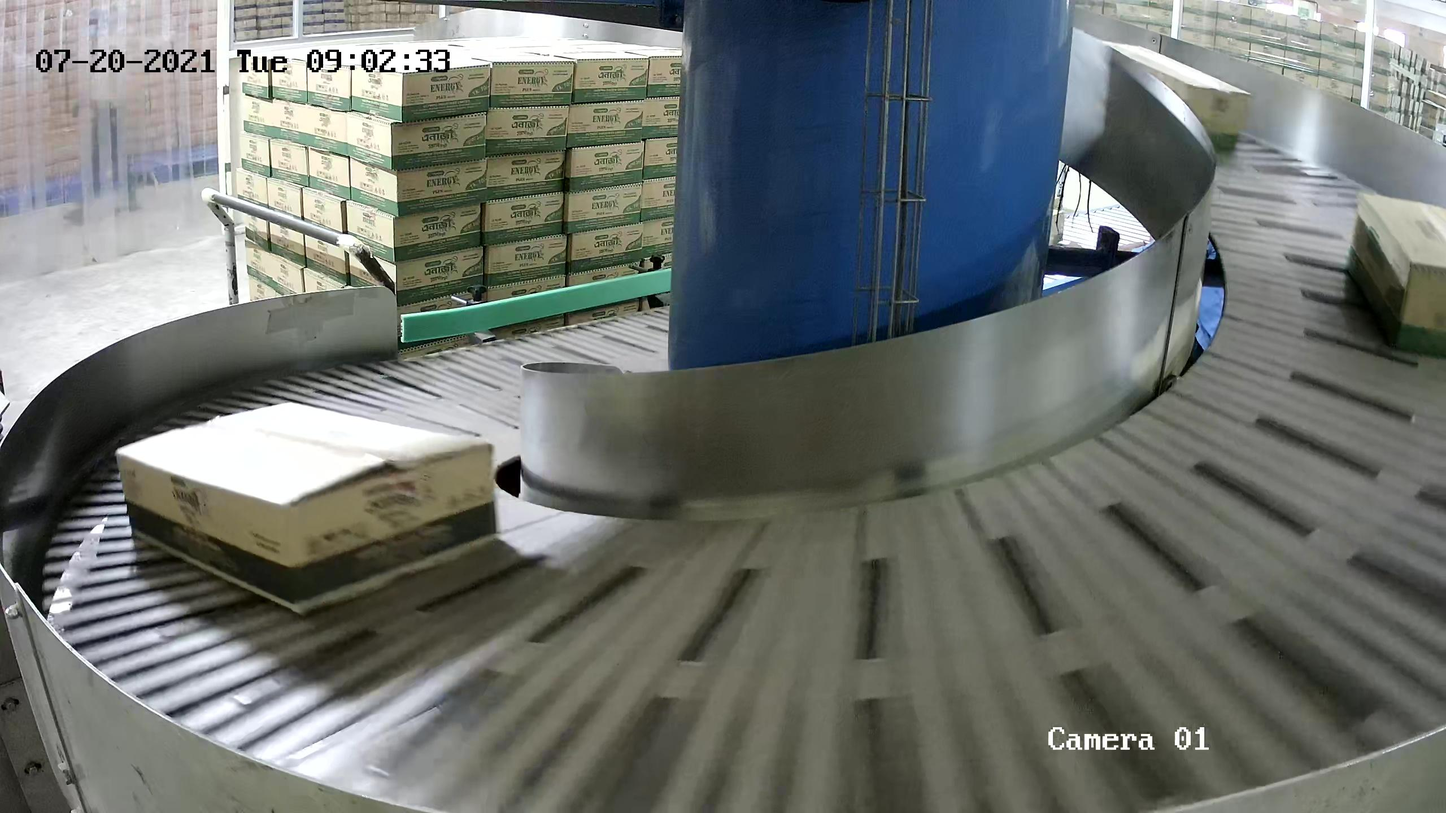Box: (114, 400, 500, 616), (1093, 37, 1253, 152), (1345, 191, 1446, 355)
